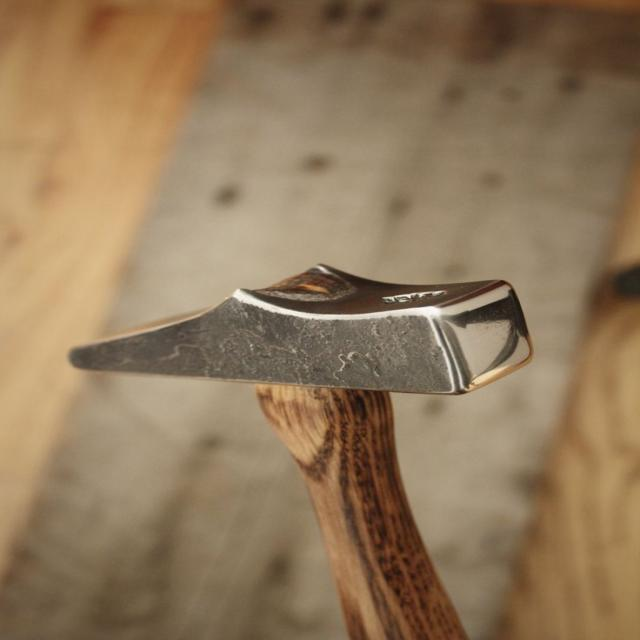hammer: (67, 258, 556, 640)
